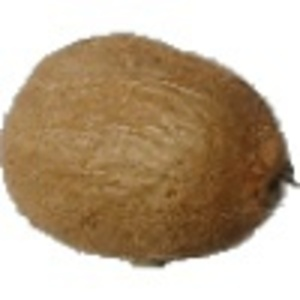kiwi: (1, 31, 300, 270)
